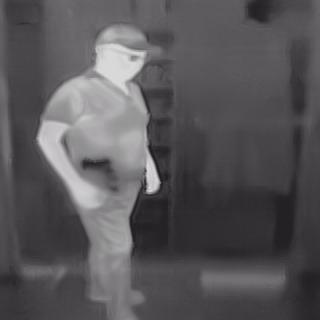Gun: (80, 156, 121, 194)
